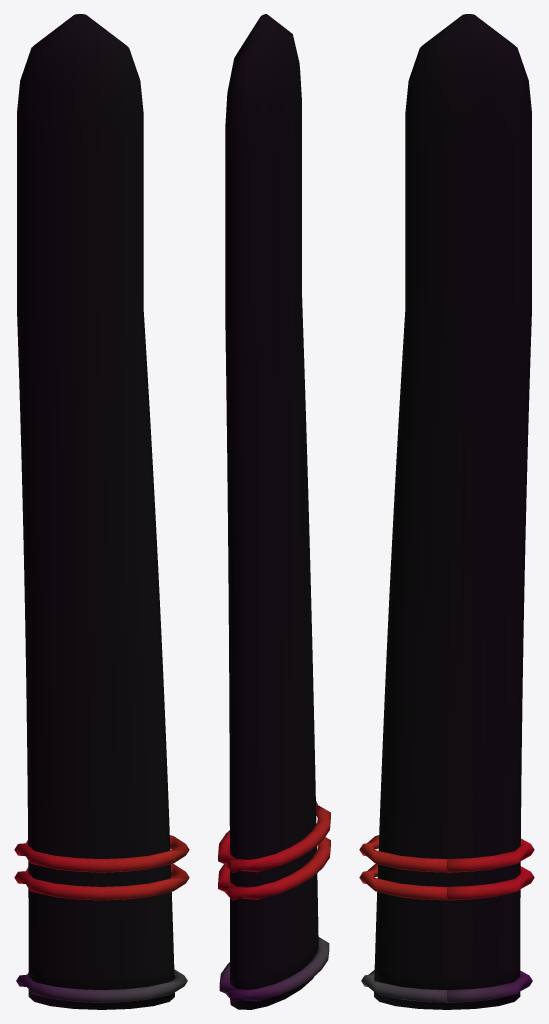
The model's file is kagenui_saya.glb.
3 renders of one model, left to right at view 1: azimuth 90°, elevation 25°; view 2: azimuth 150°, elevation 25°; view 3: azimuth 270°, elevation 25°, orthographic.
Parts seen in each view (by area): view 1: Kagenui_Saya; view 2: Kagenui_Saya; view 3: Kagenui_Saya.
Part boxes in pixels (bbox=[...]): Kagenui_Saya: bbox=[14, 14, 189, 1009]; Kagenui_Saya: bbox=[218, 14, 330, 1009]; Kagenui_Saya: bbox=[359, 14, 534, 1009].
Bounding box in the file's own units: 0.0203 × 0.247 × 0.04.
